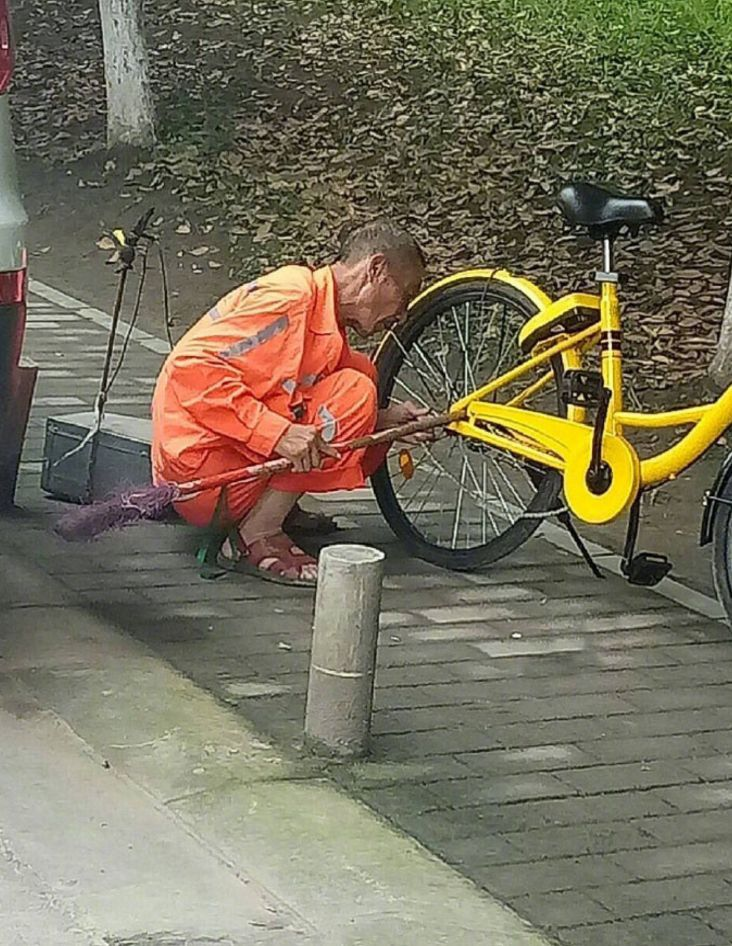other: (131, 179, 522, 602)
